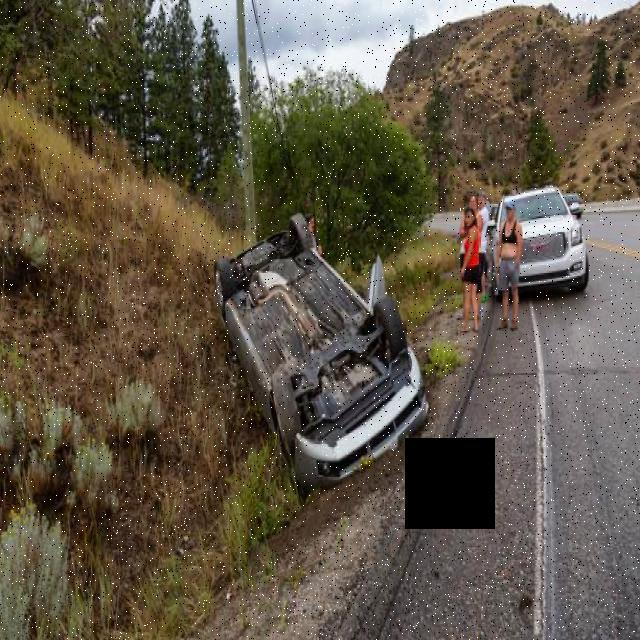severe: (208, 203, 434, 498)
